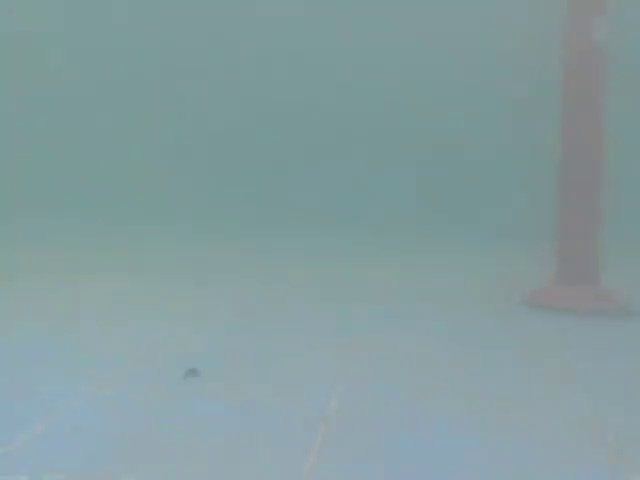flare: (517, 0, 640, 326)
